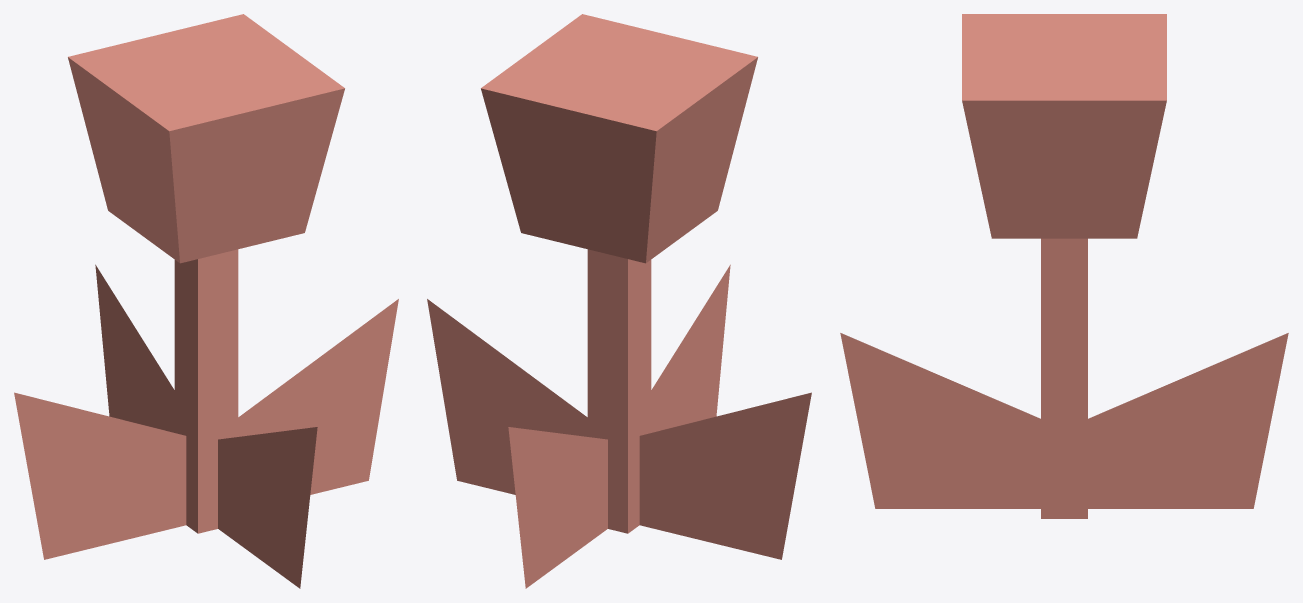
The model's file is naturePack_flat_011.fbx.
3 renders of one model, left to right at view 1: azimuth 30°, elevation 25°; view 2: azimuth 150°, elevation 25°; view 3: azimuth 270°, elevation 25°, orthographic.
Visible parts, largest first — view 1: naturePack_flat_011; view 2: naturePack_flat_011; view 3: naturePack_flat_011.
Boxes of the visible parts, x1,y1,x2,y2 form: naturePack_flat_011: (14, 14, 398, 588); naturePack_flat_011: (427, 14, 811, 588); naturePack_flat_011: (840, 14, 1288, 518).
Bounding box in the file's own units: 48.59 × 54 × 48.59.
